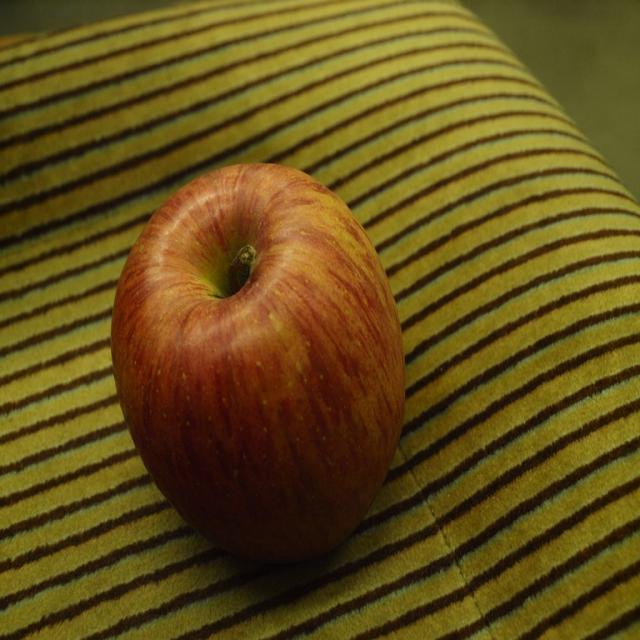Apple: (110, 158, 404, 566)
